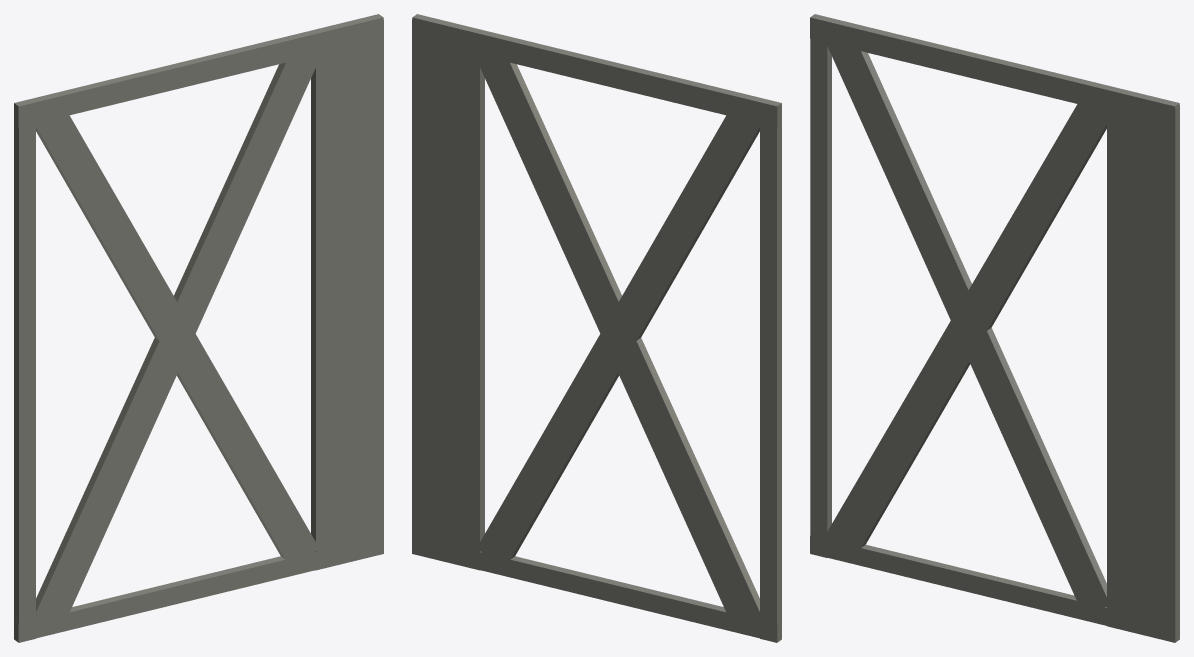
Rendered from metal_barricade_02.fbx.
The picture shows the model from 3 angles, left to right: view 1: azimuth 30°, elevation 25°; view 2: azimuth 150°, elevation 25°; view 3: azimuth 330°, elevation 25°; orthographic projection.
Visible parts, largest first — view 1: metal_barricade_02; view 2: metal_barricade_02; view 3: metal_barricade_02.
Boxes of the visible parts, bbox=[...] form: metal_barricade_02: bbox=[14, 14, 383, 642]; metal_barricade_02: bbox=[412, 14, 781, 642]; metal_barricade_02: bbox=[810, 14, 1179, 642].
Size of the model in its own units: 141 by 198 by 3.16.
